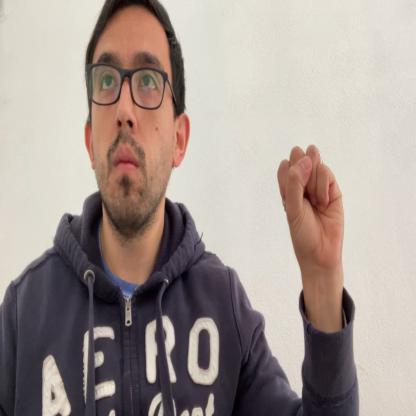S: (277, 145, 345, 276)
